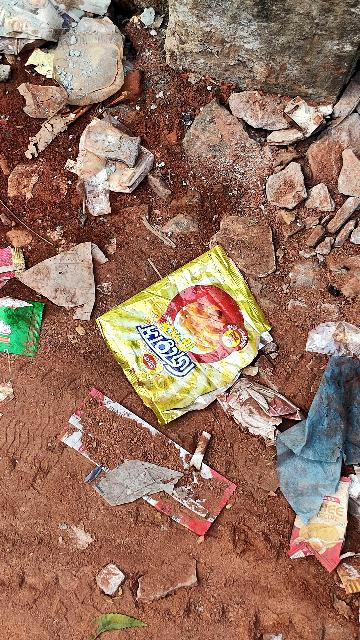packet: (107, 252, 262, 411)
